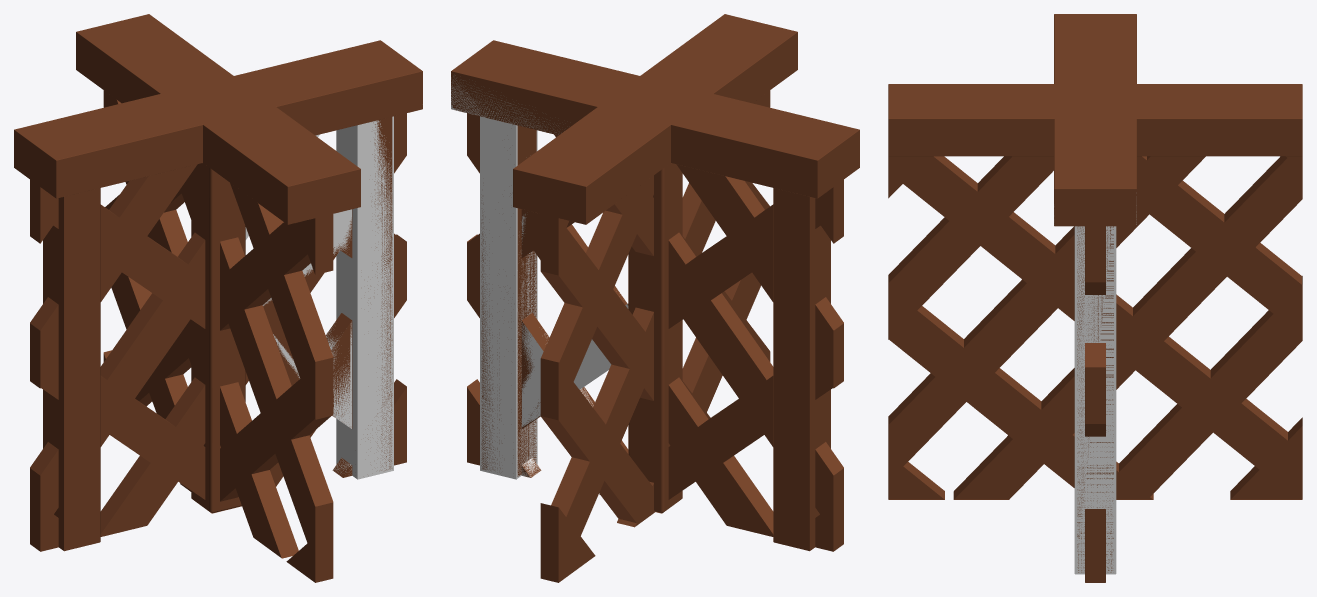
The model's file is Shade.glb.
3 renders of one model, left to right at view 1: azimuth 30°, elevation 25°; view 2: azimuth 150°, elevation 25°; view 3: azimuth 270°, elevation 25°, orthographic. The views are drawn at different scales.
Visible parts, largest first — view 1: Shade W, Shade N, Shade Solo, Shade Single Left, Shade Single Right, Shade S, Shade E, Shade Middle; view 2: Shade E, Shade Solo, Shade N, Shade Single Right, Shade Single Left, Shade W, Shade S, Shade Middle; view 3: Shade W, Shade E, Shade S, Shade Single Right, Shade Solo, Shade N.
Boxes of the visible parts, box(x1,y1,x2,y2) form: Shade W: box(161, 76, 360, 582); Shade N: box(14, 76, 253, 551); Shade Solo: box(15, 41, 421, 548); Shade Single Left: box(43, 164, 205, 551); Shade Single Right: box(245, 116, 393, 479); Shade S: box(167, 40, 422, 486); Shade E: box(76, 14, 273, 491); Shade Middle: box(191, 163, 245, 513); Shade E: box(513, 76, 711, 582); Shade Solo: box(452, 43, 845, 548); Shade N: box(630, 76, 859, 551); Shade Single Right: box(451, 75, 628, 479); Shade Single Left: box(668, 174, 830, 551); Shade W: box(620, 14, 797, 418); Shade S: box(451, 40, 687, 494); Shade Middle: box(628, 163, 682, 513); Shade W: box(888, 84, 1126, 499); Shade E: box(1054, 84, 1302, 499); Shade S: box(1054, 118, 1136, 582); Shade Single Right: box(1054, 205, 1136, 574); Shade Solo: box(1056, 14, 1134, 572); Shade N: box(1054, 14, 1136, 118).
Bounding box in the file's own units: 1 × 1.05 × 1.
